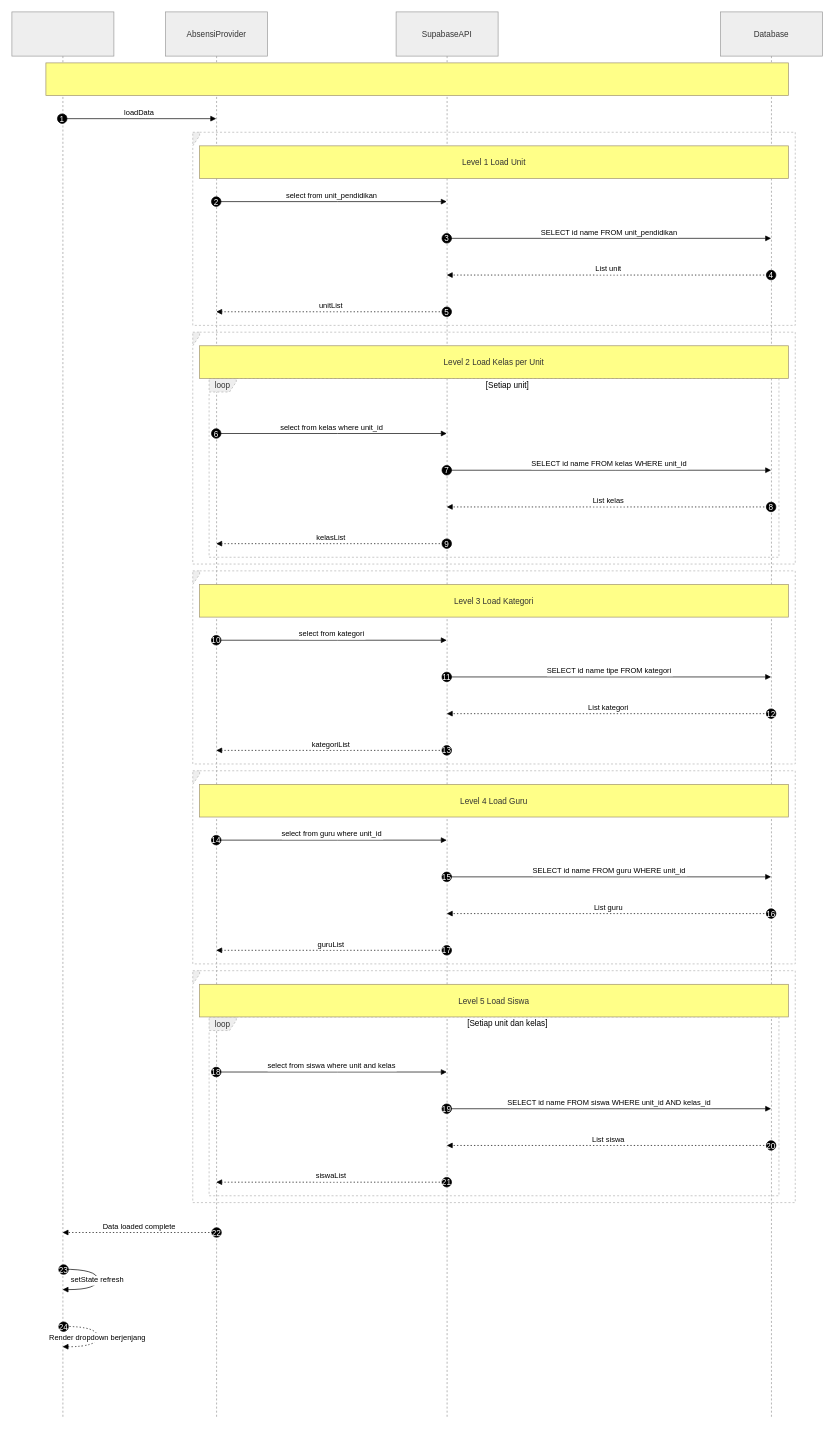
This 834x1430 diagram has some shape labels left out. The box of each missing label's shape, as (x1, y1, x2, y2) in pixels:
InputScreen: (11, 11, 114, 1418)
LOAD DATA DENGAN HIRARKI: (45, 62, 788, 96)
